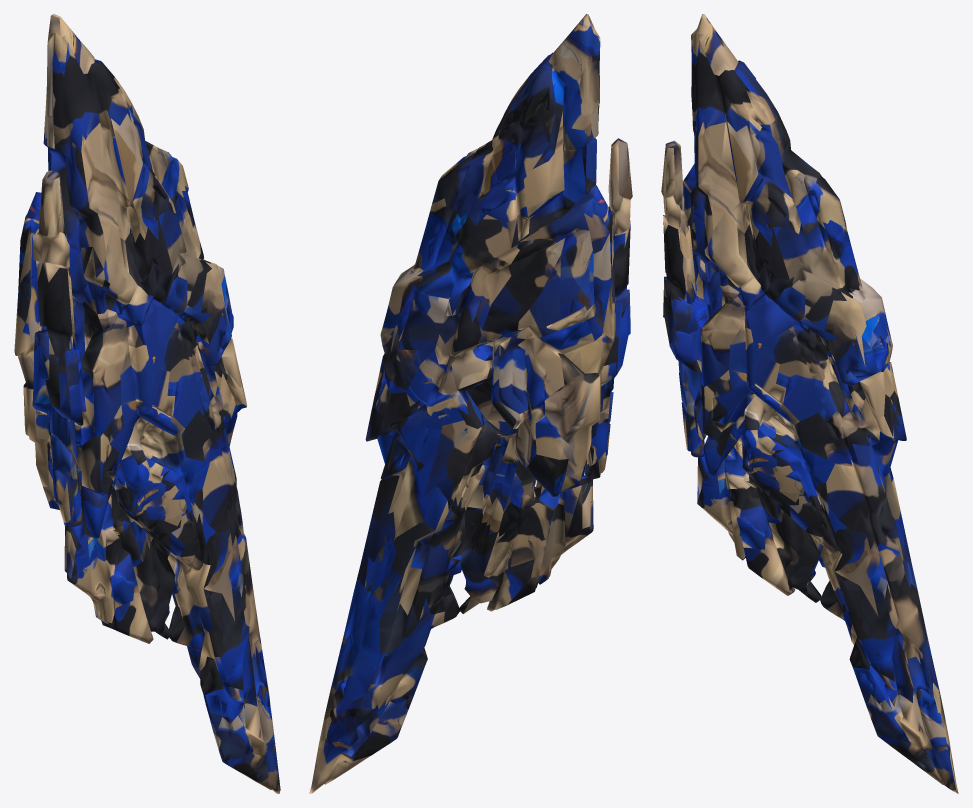
The model's file is MobilityOutR.gltf.
The picture shows the model from 3 angles, left to right: view 1: azimuth 30°, elevation 25°; view 2: azimuth 150°, elevation 25°; view 3: azimuth 330°, elevation 25°; orthographic projection. The views are drawn at different scales.
Parts seen in each view (by area): view 1: MobilityOutR; view 2: MobilityOutR; view 3: MobilityOutR.
Boxes of the visible parts, x1=… form: MobilityOutR: x1=14, y1=14, x2=280, y2=793; MobilityOutR: x1=309, y1=14, x2=632, y2=793; MobilityOutR: x1=661, y1=14, x2=958, y2=793.
Size of the model in its own units: 0.3485 by 0.9813 by 0.1339.
Materials: 1 (1 with a texture image).
